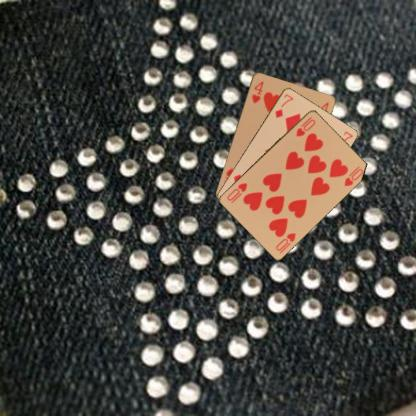10h: (273, 230, 297, 252), (294, 114, 316, 137)
4h: (249, 78, 265, 105)
7d: (272, 91, 294, 119)
